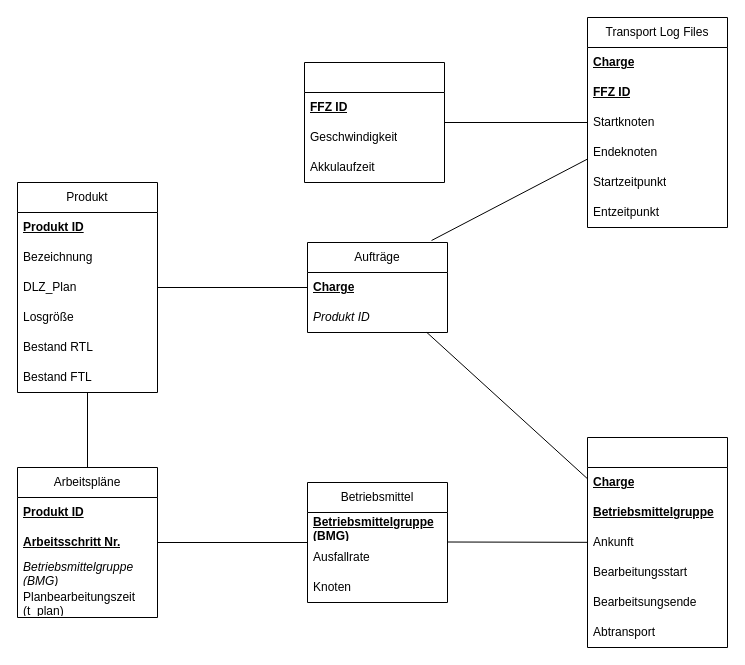
Image size: 745x665. Some labels were removed from this diagram. The box of each missing label's shape, as (x1, y1, x2, y2) in pixels:
Fertigungs Log Files: (586, 436, 728, 648)
Flurförderzeuge: (304, 62, 444, 182)
